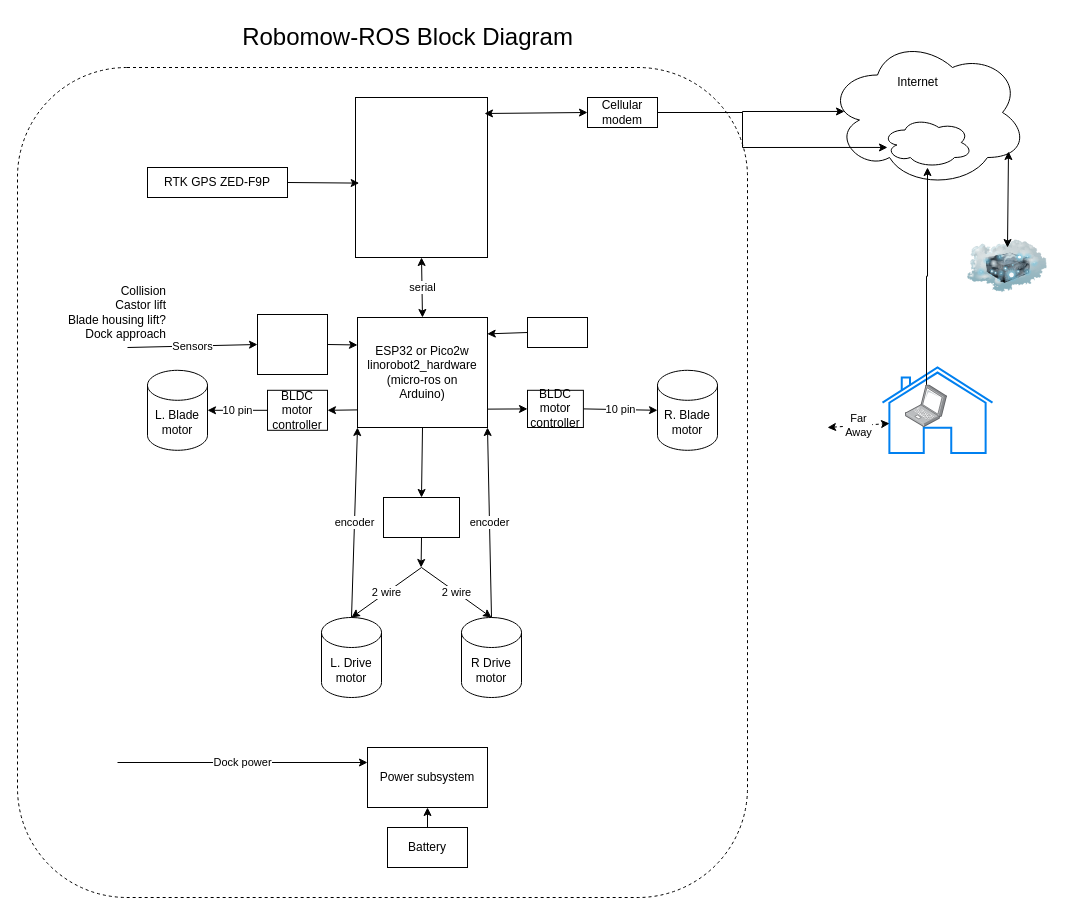
This 1065x915 diagram has some shape labels left out. Here are the shapes that lost their labels. From the top down, the centre of each, then its label:
At (927,142): "tailscale VPN".
At (421,177): "RPi + linorobot2".
At (1007,266): "rtk2go server".
At (292,344): "Front PCB?".
At (557,332): "IMU".
At (421,517): "Dual DC motor ctrlr".
